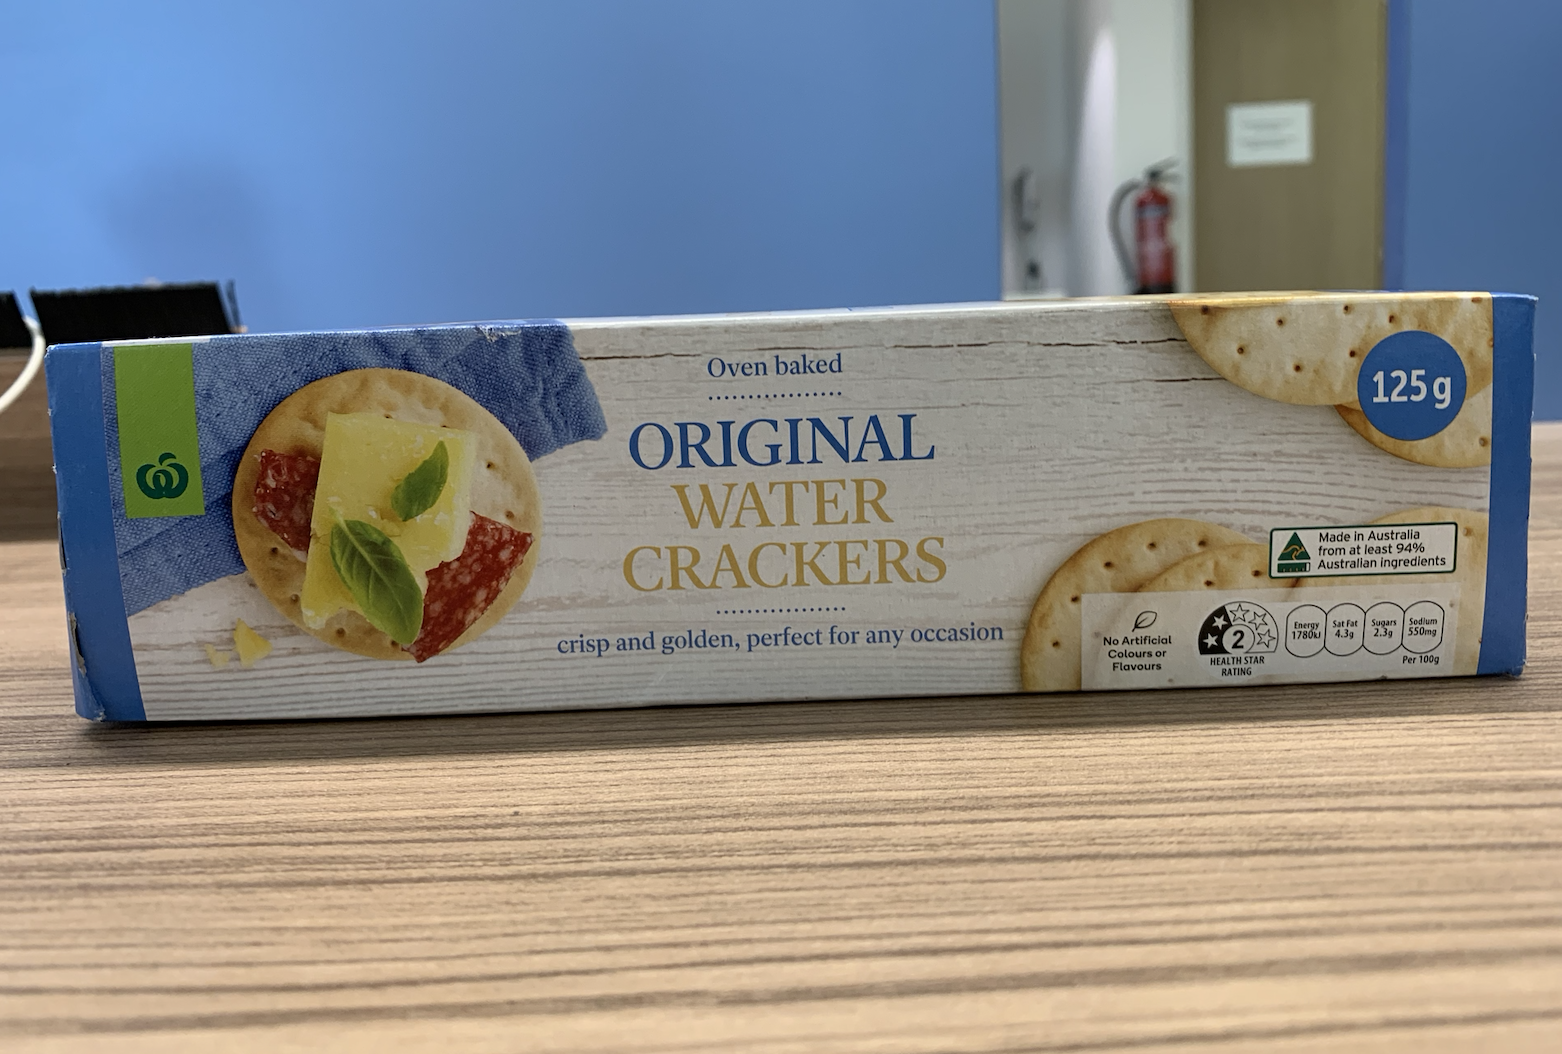crackers_100g-199g: (96, 338, 1475, 678)
